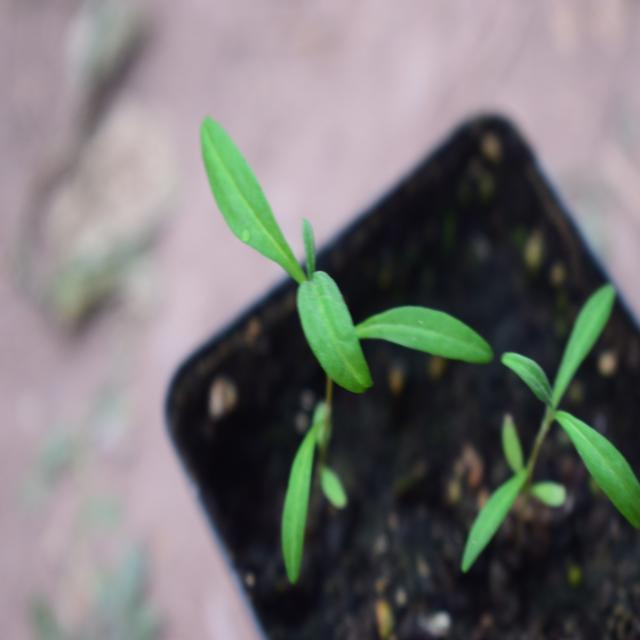white_smart_weed: (206, 104, 505, 552)
